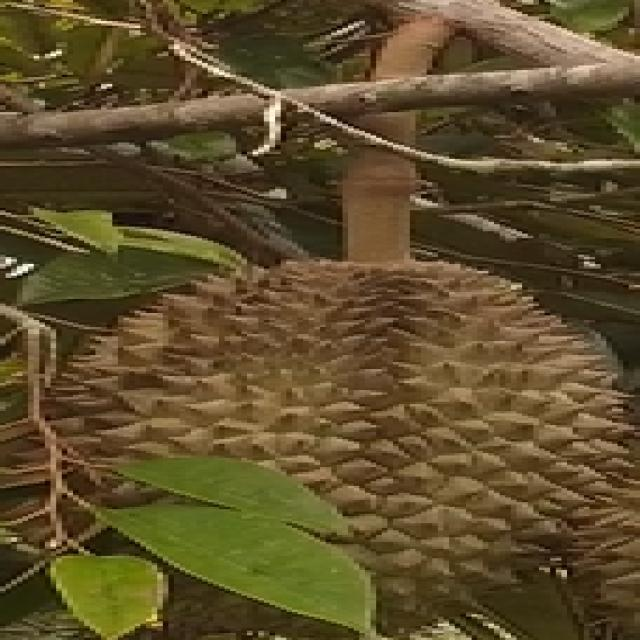mature: (48, 261, 631, 611)
